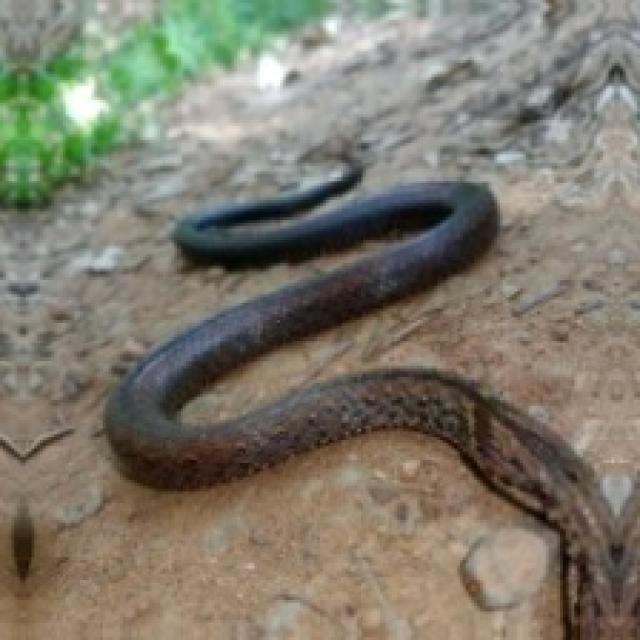reinhardts lined snake: (106, 169, 637, 637)
